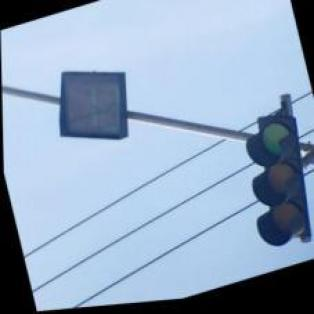Semaforo Verde: (230, 112, 312, 259)
